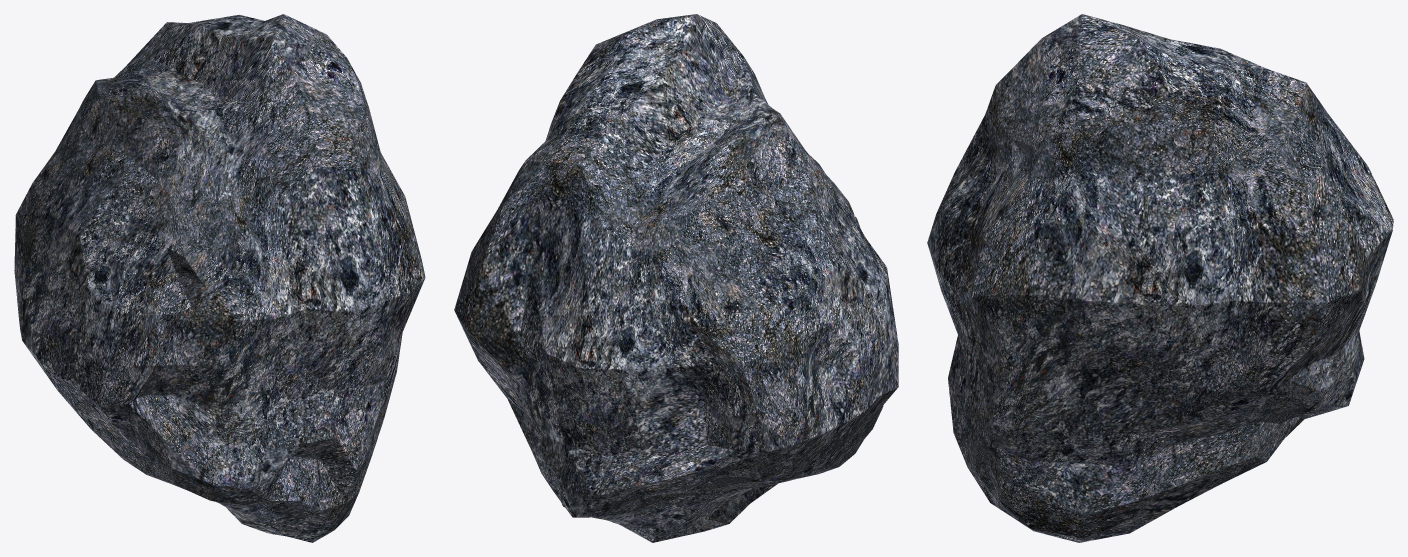
File: asteroid_iron_small_s02_l0.fbx
The picture shows the model from 3 angles, left to right: view 1: azimuth 30°, elevation 25°; view 2: azimuth 150°, elevation 25°; view 3: azimuth 270°, elevation 25°; orthographic projection. The views are drawn at different scales.
Visible parts, largest first — view 1: mesh_node; view 2: mesh_node; view 3: mesh_node.
Part boxes in pixels (box(x1,y1,x2,y2)): mesh_node: box(14, 14, 425, 542); mesh_node: box(454, 14, 898, 542); mesh_node: box(927, 14, 1393, 542).
Size of the model in its own units: 17.96 by 27.46 by 22.32.
